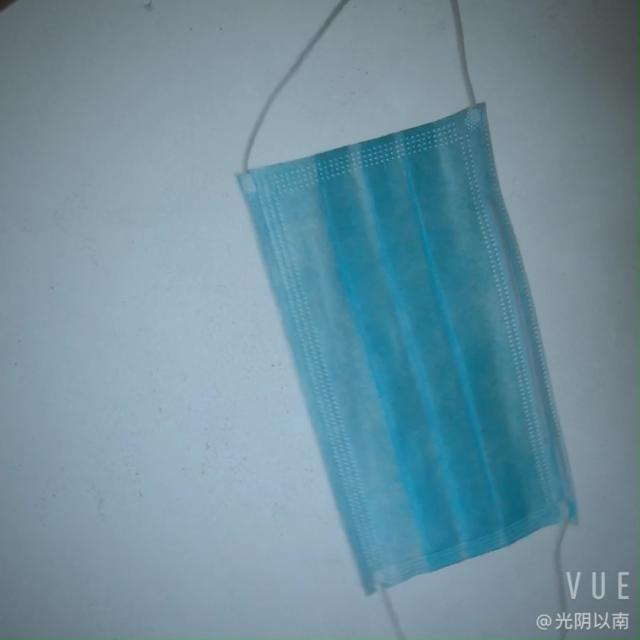face mask: (245, 107, 602, 599)
